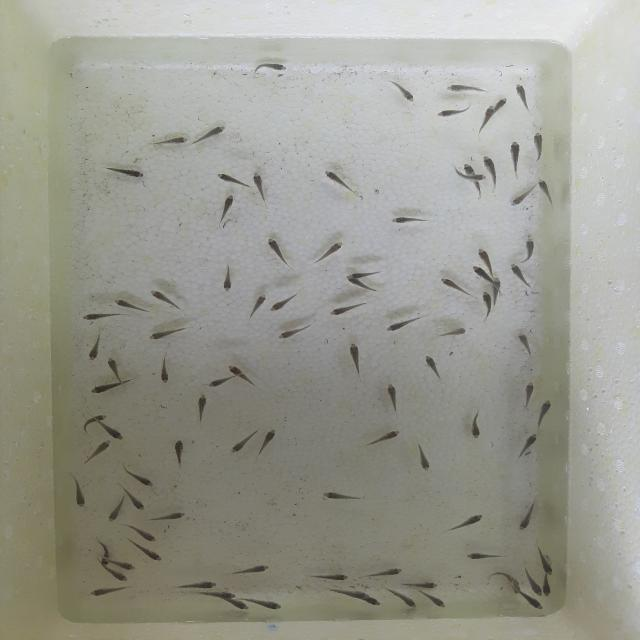fingerling: (320, 167, 360, 198), (262, 234, 294, 272), (310, 237, 350, 266), (318, 486, 368, 509), (441, 510, 485, 536), (79, 438, 119, 466), (248, 58, 294, 81), (190, 122, 230, 148), (440, 78, 491, 98), (344, 341, 368, 382), (362, 427, 404, 450), (323, 299, 368, 320), (67, 470, 90, 511), (148, 287, 184, 313), (382, 313, 426, 334), (506, 138, 526, 184), (100, 162, 148, 181), (271, 322, 316, 342), (386, 77, 418, 105), (224, 562, 276, 579), (506, 261, 534, 292), (417, 350, 445, 381), (510, 80, 535, 114), (144, 326, 191, 344), (436, 274, 471, 298), (512, 502, 540, 532), (384, 378, 404, 419), (119, 467, 158, 488), (243, 292, 269, 323), (257, 426, 282, 458), (170, 435, 191, 473), (267, 290, 300, 314), (515, 431, 540, 462), (215, 192, 237, 227), (150, 131, 190, 150), (527, 129, 548, 165), (412, 438, 433, 474), (536, 176, 558, 210), (251, 171, 271, 208), (359, 564, 408, 579), (432, 103, 475, 120), (110, 295, 150, 313), (191, 391, 212, 425), (86, 380, 130, 396), (465, 404, 483, 443), (225, 430, 253, 455), (84, 332, 108, 361), (153, 354, 174, 387), (512, 330, 535, 360), (385, 213, 433, 227), (88, 584, 135, 598), (432, 324, 468, 342), (217, 262, 237, 294), (518, 377, 538, 409), (304, 569, 353, 582), (388, 590, 418, 611), (146, 510, 189, 524), (534, 398, 554, 428), (102, 354, 125, 380), (214, 170, 247, 188), (127, 489, 150, 514), (78, 309, 122, 322), (328, 586, 370, 599), (464, 549, 506, 562), (520, 236, 540, 263), (176, 578, 220, 590), (536, 548, 556, 574), (509, 186, 531, 209), (137, 545, 165, 563), (105, 498, 125, 523), (477, 290, 493, 321), (194, 589, 238, 600), (252, 597, 284, 611), (401, 578, 441, 589), (347, 268, 383, 280), (425, 592, 448, 610), (474, 244, 493, 264), (205, 376, 232, 390), (482, 151, 499, 173), (104, 426, 128, 441), (226, 599, 250, 613), (525, 596, 545, 612), (138, 528, 158, 543), (470, 264, 487, 281), (541, 576, 553, 598), (225, 360, 243, 374), (112, 571, 130, 584), (119, 560, 138, 572), (496, 95, 509, 112), (482, 104, 496, 119), (464, 174, 490, 182), (367, 596, 384, 608), (530, 582, 542, 597), (462, 162, 475, 174), (94, 413, 108, 421)
